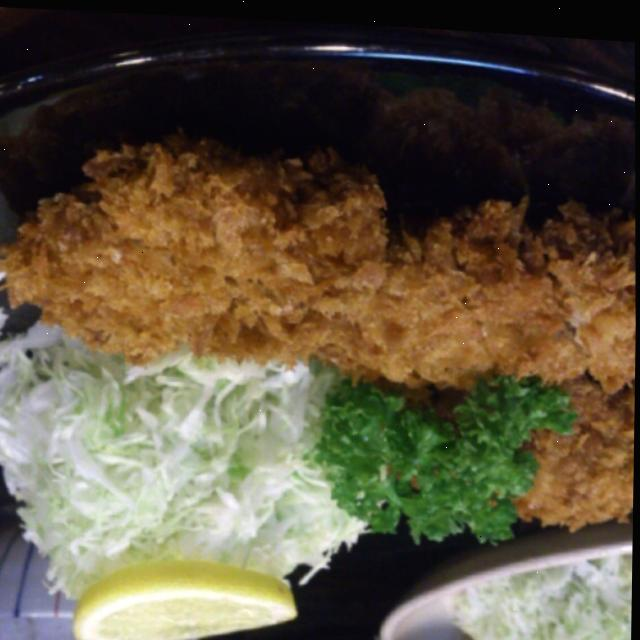牛肉菜式: (0, 59, 636, 640)
